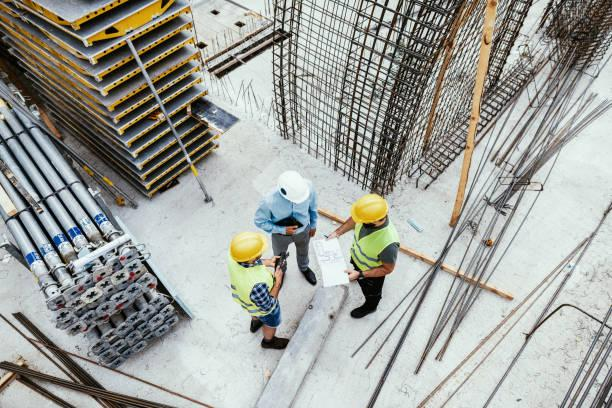capacete: (346, 190, 392, 224), (230, 230, 274, 265), (276, 167, 308, 205)
pessoa: (222, 232, 292, 351), (258, 180, 328, 282), (340, 197, 399, 318)
uniforme seguranca: (226, 260, 282, 313), (351, 224, 397, 278)
